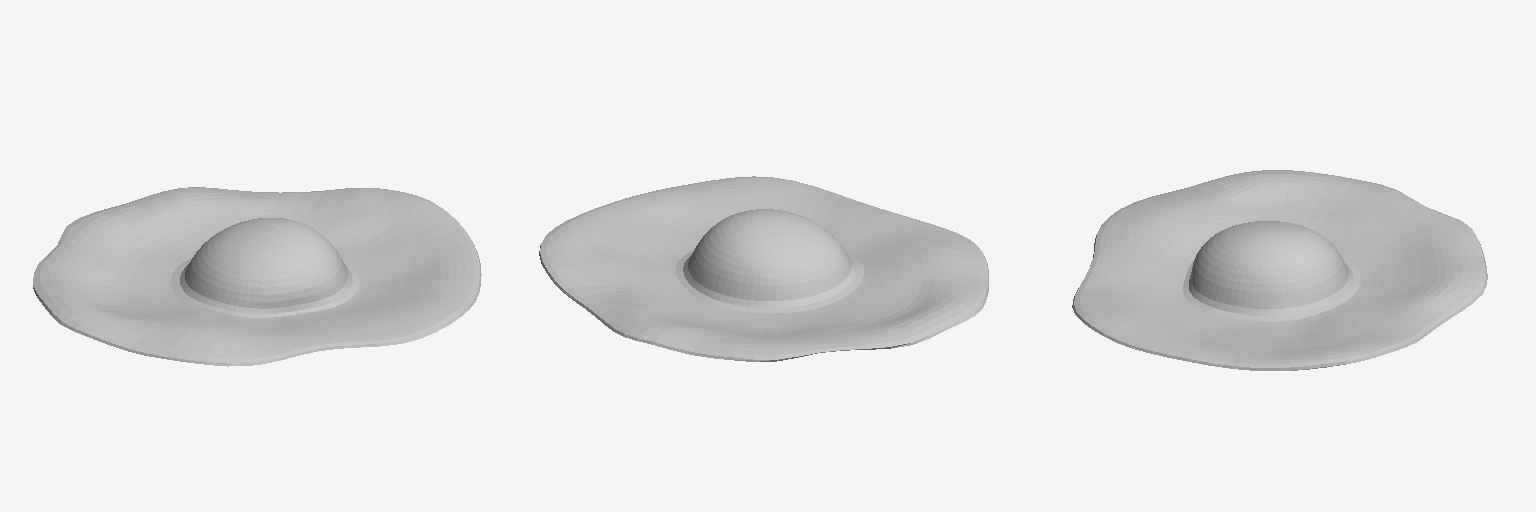
The model's file is omelette.obj.
3 views of the same model, side by side, from view 1: azimuth 30°, elevation 25°; view 2: azimuth 150°, elevation 25°; view 3: azimuth 270°, elevation 25° (orthographic).
Parts seen in each view (by area): view 1: egg.001_Sphere.001; view 2: egg.001_Sphere.001; view 3: egg.001_Sphere.001.
Boxes of the visible parts, <box> form: egg.001_Sphere.001: <box>33,187,481,366</box>; egg.001_Sphere.001: <box>539,176,988,361</box>; egg.001_Sphere.001: <box>1072,170,1487,370</box>.
Size of the model in its own units: 2.31 by 0.3221 by 2.05.